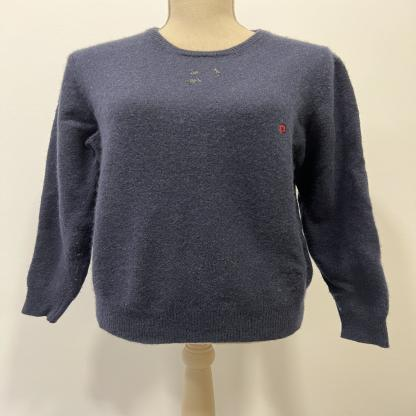stain: (211, 66, 225, 78), (184, 77, 204, 85), (188, 69, 202, 76)
